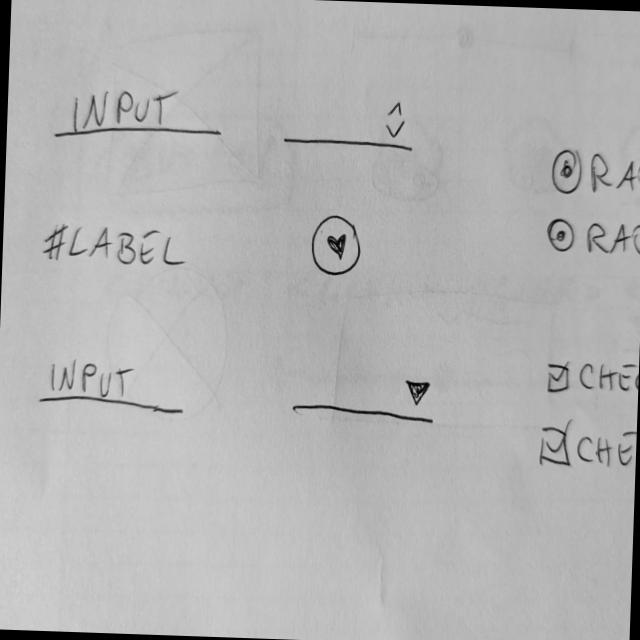checkbox: (536, 423, 638, 476), (541, 354, 640, 402)
icon-button: (309, 213, 364, 281)
input: (51, 82, 227, 148), (32, 352, 191, 419)
label: (40, 216, 192, 278)
number-input: (281, 90, 421, 160)
radio: (547, 144, 640, 202), (545, 210, 640, 262)
select: (290, 370, 440, 428)
